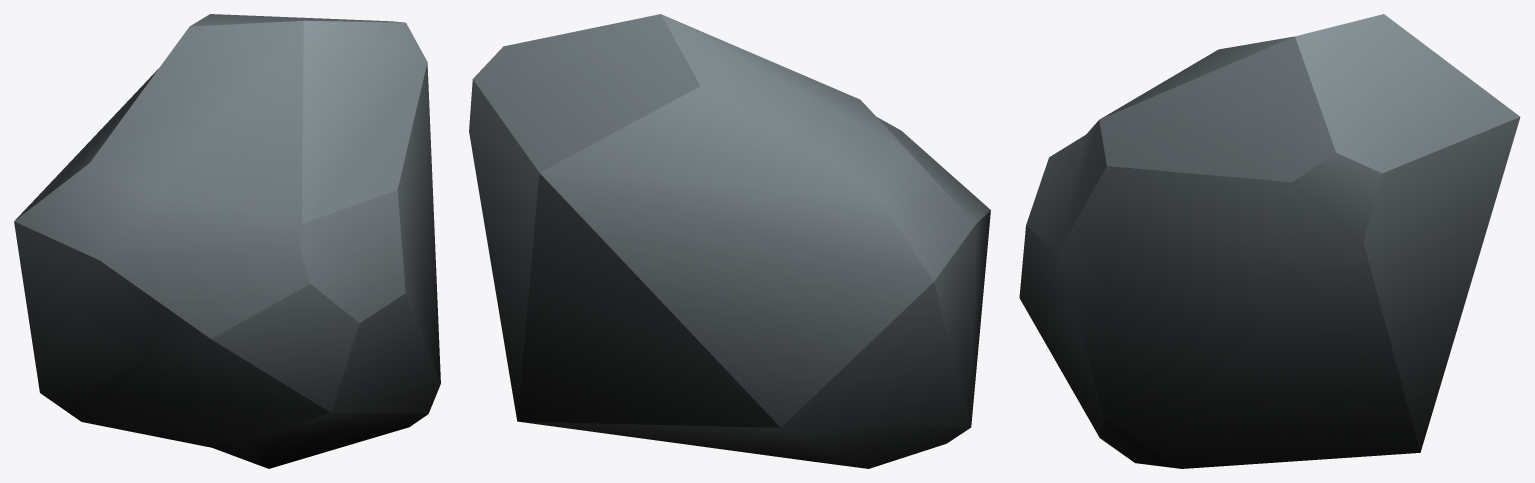
The model's file is rock5.fbx.
The picture shows the model from 3 angles, left to right: view 1: azimuth 30°, elevation 25°; view 2: azimuth 150°, elevation 25°; view 3: azimuth 270°, elevation 25°; orthographic projection. The views are drawn at different scales.
Visible parts, largest first — view 1: rock3; view 2: rock3; view 3: rock3.
Part boxes in pixels (box(x1,y1,x2,y2)): rock3: box(14, 14, 440, 468); rock3: box(469, 14, 990, 468); rock3: box(1019, 14, 1520, 468).
Bounding box in the file's own units: 256 × 235 × 242.
